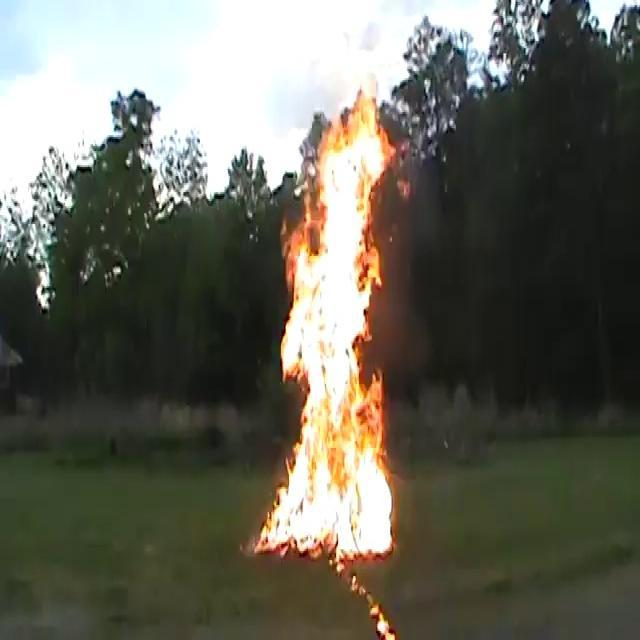Fire: (259, 80, 402, 567)
